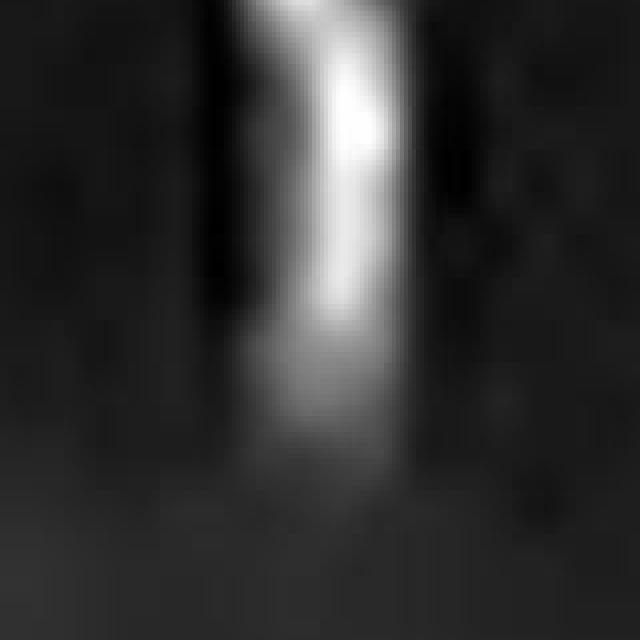person: (177, 1, 441, 492)
